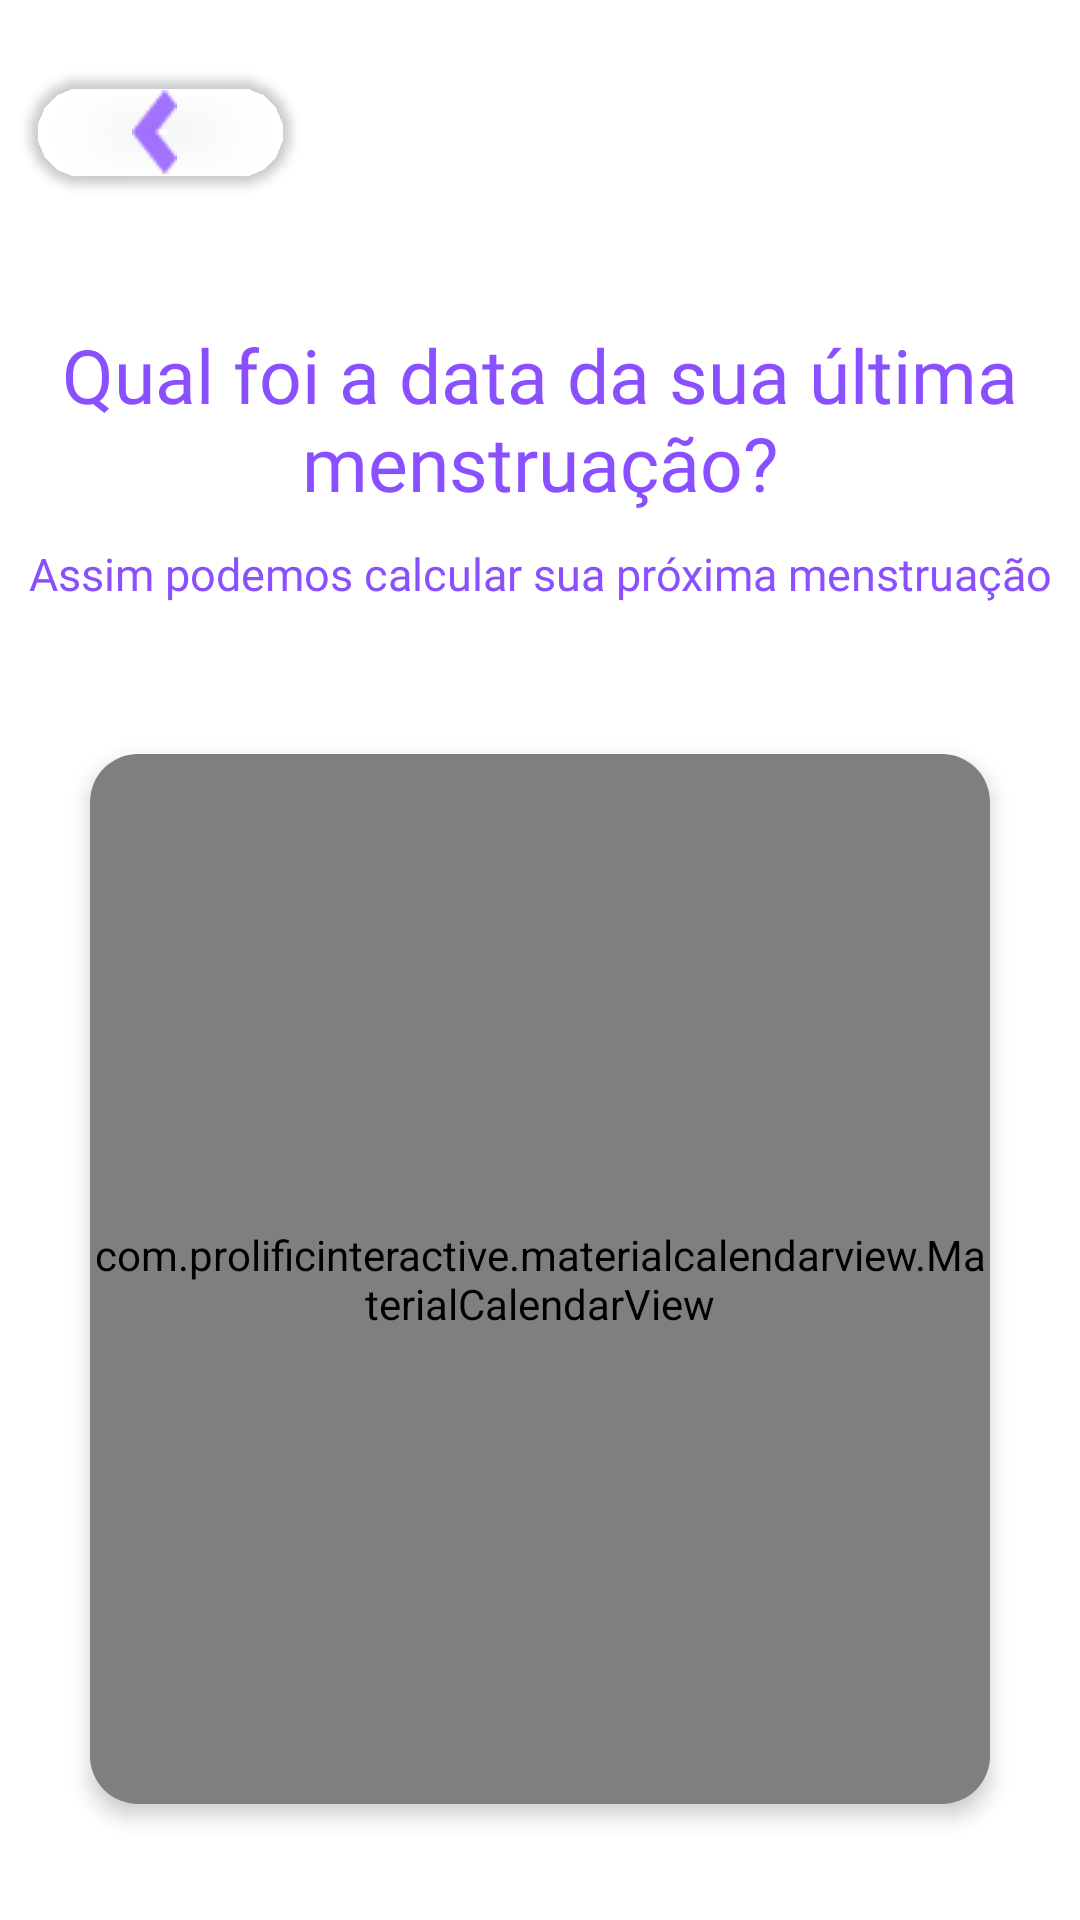

Icons on this 1080 × 1920 Android screen, each with the point to tap as (x,y):
Voltar: (160,132)
